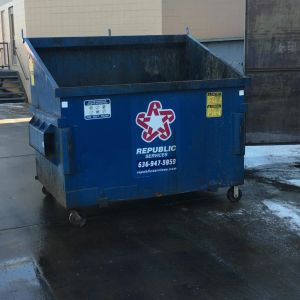Dumpster: (18, 25, 255, 232)
